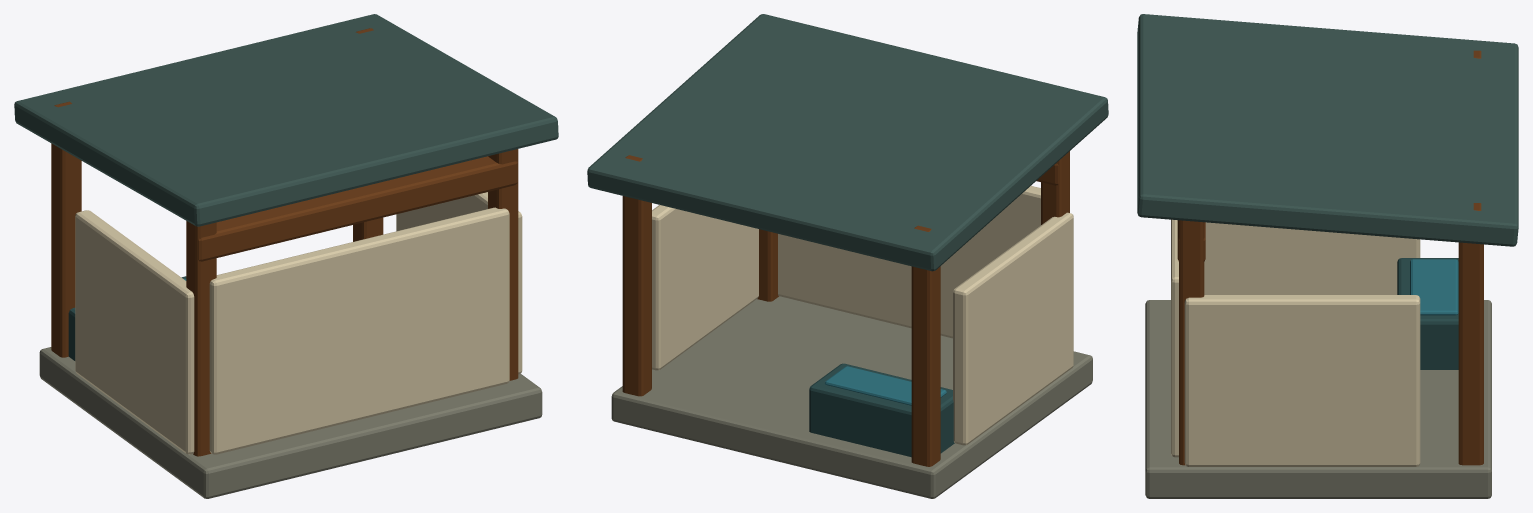
The model's file is CowShelter.glb.
3 views of the same model, side by side, from view 1: azimuth 30°, elevation 25°; view 2: azimuth 150°, elevation 25°; view 3: azimuth 270°, elevation 25° (orthographic). The views are drawn at different scales.
Visible parts, largest first — view 1: CowShelter_Walls, CowShelter_Roof, CowShelter_Timber, CowShelter_Stone; view 2: CowShelter_Roof, CowShelter_Walls, CowShelter_Stone, CowShelter_Timber, CowShelter_Trough; view 3: CowShelter_Roof, CowShelter_Walls, CowShelter_Stone, CowShelter_Timber, CowShelter_Trough.
Boxes of the visible parts, bbox=[...] form: CowShelter_Walls: bbox=[75, 192, 522, 454]; CowShelter_Roof: bbox=[14, 14, 558, 226]; CowShelter_Timber: bbox=[51, 28, 518, 456]; CowShelter_Stone: bbox=[39, 347, 542, 498]; CowShelter_Roof: bbox=[587, 14, 1108, 271]; CowShelter_Walls: bbox=[652, 186, 1073, 445]; CowShelter_Stone: bbox=[611, 296, 1092, 498]; CowShelter_Timber: bbox=[622, 151, 1069, 466]; CowShelter_Trough: bbox=[809, 363, 954, 457]; CowShelter_Roof: bbox=[1137, 14, 1518, 246]; CowShelter_Walls: bbox=[1171, 219, 1420, 466]; CowShelter_Stone: bbox=[1145, 300, 1491, 498]; CowShelter_Timber: bbox=[1177, 50, 1483, 465]; CowShelter_Trough: bbox=[1397, 258, 1458, 369].
Bounding box in the file's own units: 1.88 × 1.49 × 1.65.
